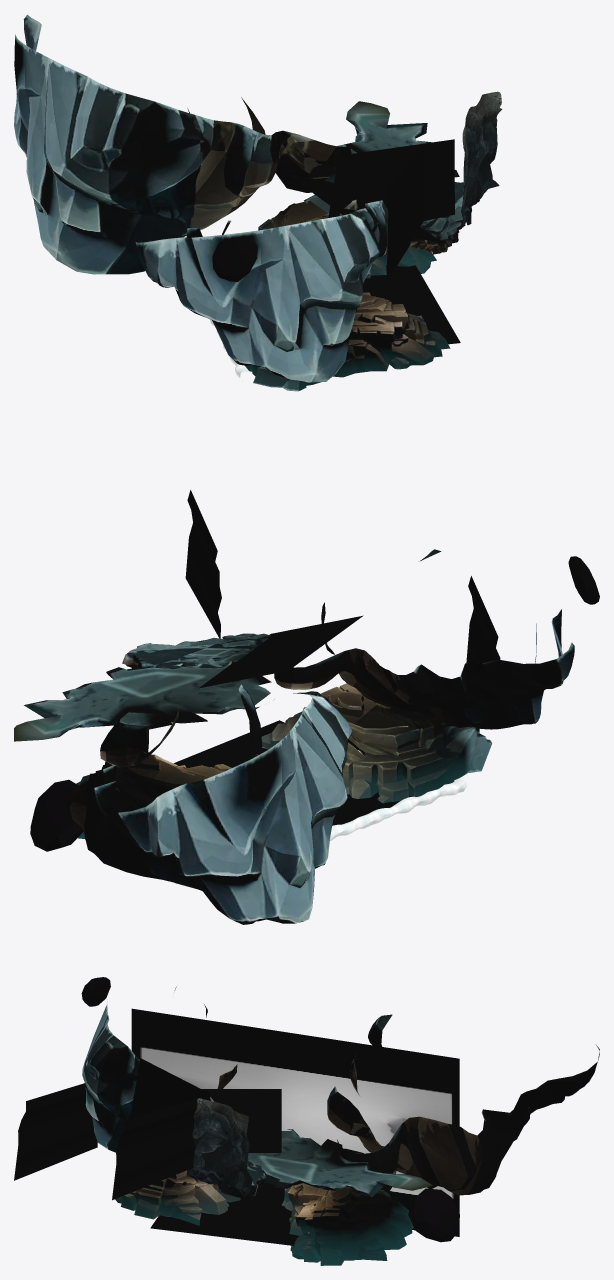
The model's file is scena_02.glb.
3 renders of one model, top to bottom at view 1: azimuth 30°, elevation 25°; view 2: azimuth 150°, elevation 25°; view 3: azimuth 270°, elevation 25°, orthographic. The views are drawn at different scales.
Visible parts, largest first — view 1: grotta_roccia_alta_dx, grotta_roccia_alta_sx, grotta_roccia_bassa_sx, piano_nero.001, grotta_roccia_quinta_top_dx, roccia buco camera, piano_nero.002, acqua_fiume, grotta_roccia_bassa_dx, grotta_roccia_quinta_top, piano_nero; view 2: grotta_roccia_alta_dx, grotta_roccia_alta_sx, grotta_roccia_bassa_sx, grotta_roccia_quinta_top_dx, piano_nero, grotta_roccia_quinta_top, grotta_roccia_bassa_dx, piano_nero.003, acqua_fiume, sbuffo_acqua_bianco, piano_nero.004; view 3: acqua_cascata, grotta_roccia_alta_dx, grotta_roccia_bassa_dx, grotta_roccia_alta_sx, piano_nero.003, grotta_roccia_quinta_top_dx, piano_nero.004, acqua_fiume, roccia buco camera, grotta_roccia_bassa_sx, piano_nero, piano_nero.002 (+1 smaller).
Part boxes in pixels (bbox=[...]): grotta_roccia_alta_dx: bbox=[14, 14, 351, 274]; grotta_roccia_alta_sx: bbox=[135, 199, 388, 382]; grotta_roccia_bassa_sx: bbox=[245, 292, 450, 391]; piano_nero.001: bbox=[328, 139, 454, 220]; grotta_roccia_quinta_top_dx: bbox=[304, 101, 459, 217]; roccia buco camera: bbox=[461, 91, 502, 224]; piano_nero.002: bbox=[386, 144, 424, 281]; acqua_fiume: bbox=[363, 265, 460, 344]; grotta_roccia_bassa_dx: bbox=[258, 200, 436, 278]; grotta_roccia_quinta_top: bbox=[409, 182, 479, 254]; piano_nero: bbox=[286, 173, 448, 244]; grotta_roccia_alta_dx: bbox=[30, 684, 352, 924]; grotta_roccia_alta_sx: bbox=[274, 549, 599, 729]; grotta_roccia_bassa_sx: bbox=[261, 683, 491, 803]; grotta_roccia_quinta_top_dx: bbox=[14, 665, 274, 741]; piano_nero: bbox=[199, 615, 363, 688]; grotta_roccia_quinta_top: bbox=[122, 633, 271, 669]; grotta_roccia_bassa_dx: bbox=[76, 754, 231, 838]; piano_nero.003: bbox=[185, 490, 221, 638]; acqua_fiume: bbox=[174, 720, 410, 825]; sbuffo_acqua_bianco: bbox=[330, 778, 466, 841]; piano_nero.004: bbox=[466, 576, 500, 663]; acqua_cascata: bbox=[131, 1008, 459, 1236]; grotta_roccia_alta_dx: bbox=[327, 1014, 599, 1242]; grotta_roccia_bassa_dx: bbox=[282, 1183, 413, 1265]; grotta_roccia_alta_sx: bbox=[81, 977, 237, 1152]; piano_nero.003: bbox=[112, 1098, 198, 1200]; grotta_roccia_quinta_top_dx: bbox=[247, 1129, 432, 1197]; piano_nero.004: bbox=[14, 1083, 97, 1180]; acqua_fiume: bbox=[150, 1182, 392, 1245]; roccia buco camera: bbox=[192, 1098, 252, 1195]; grotta_roccia_bassa_sx: bbox=[115, 1170, 240, 1225]; piano_nero: bbox=[201, 1089, 281, 1152]; piano_nero.002: bbox=[130, 1058, 209, 1118].
Size of the model in its own units: 40.6 by 22.96 by 62.36.
9 materials, 8 textured.
